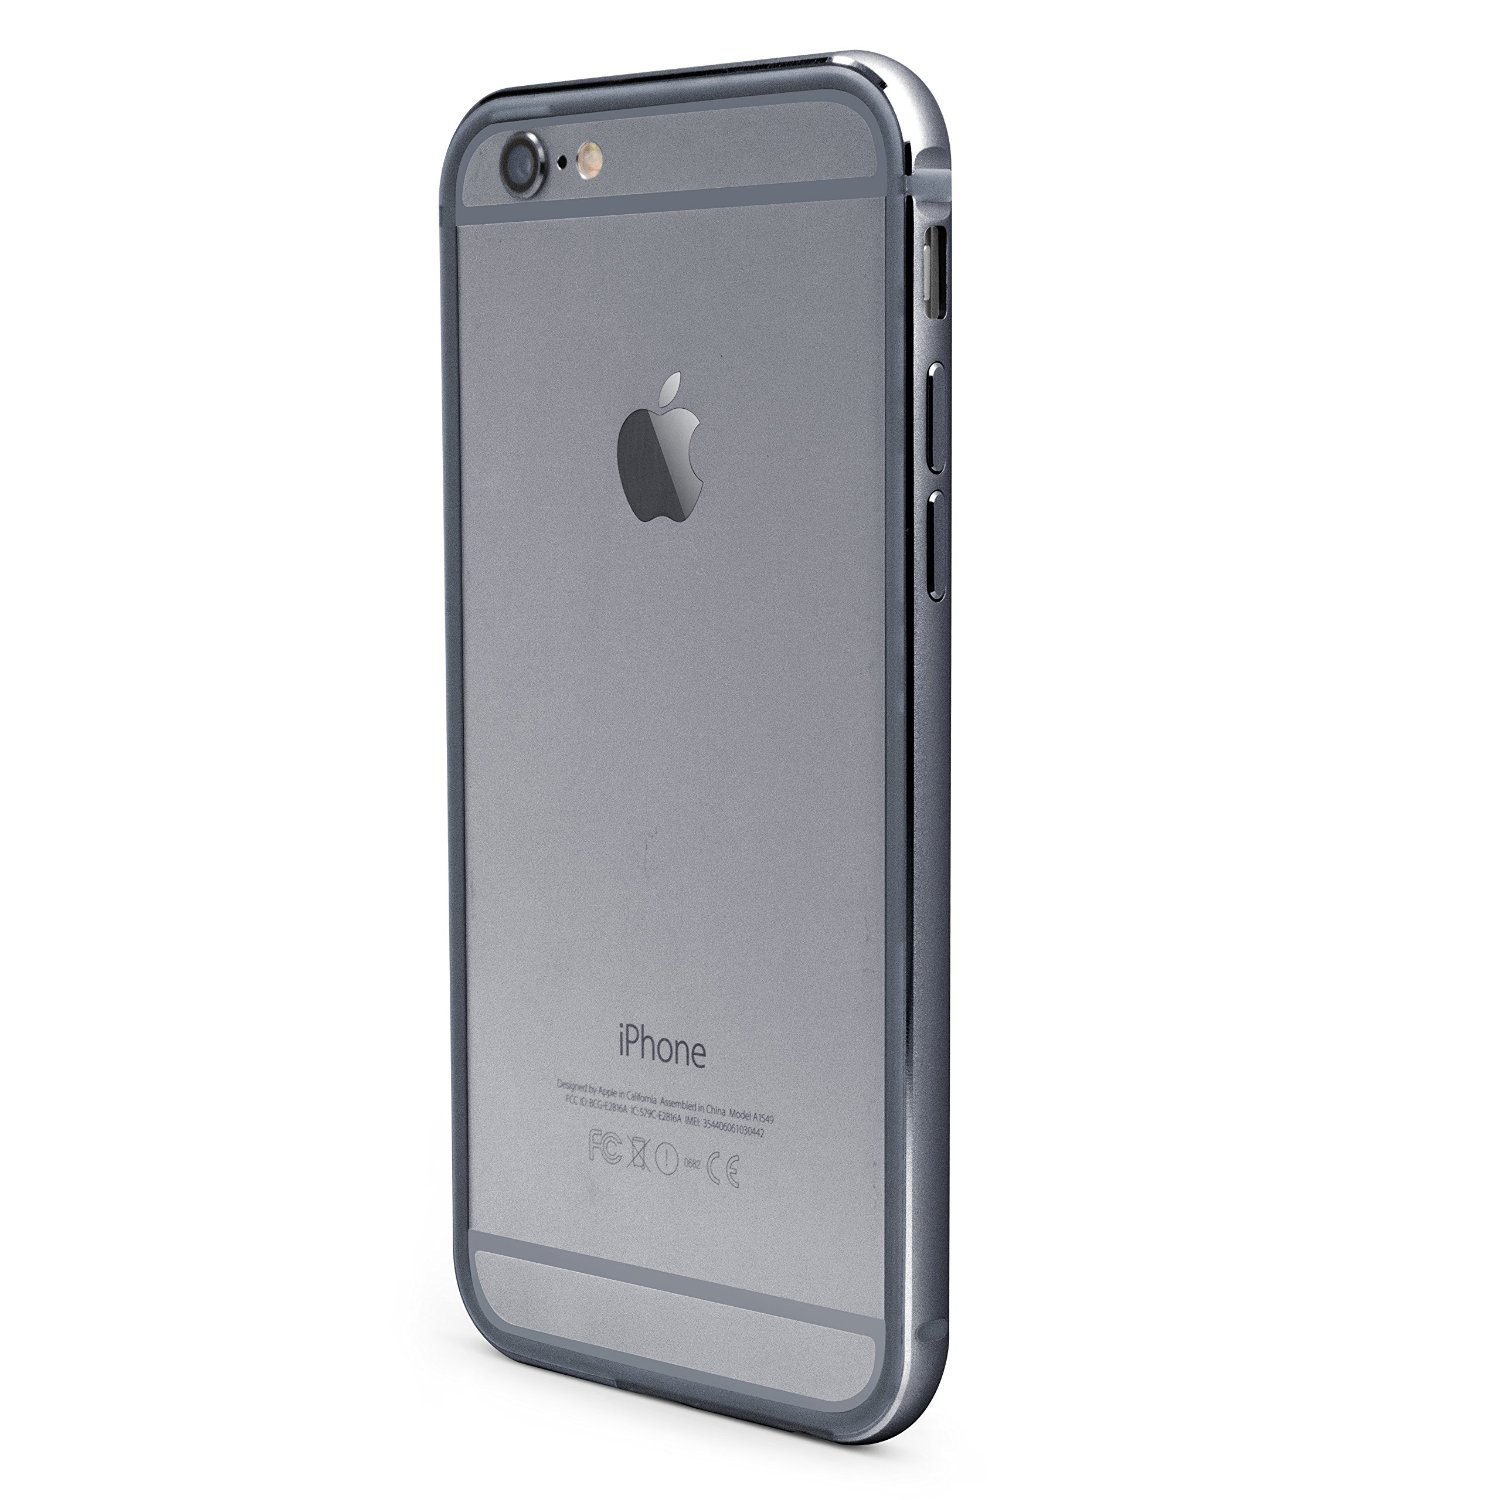smartphone: (437, 49, 952, 1446)
